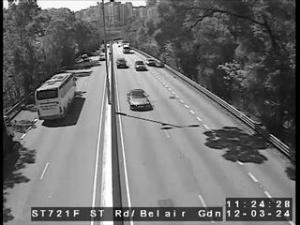bus: (35, 73, 77, 121)
truck: (124, 45, 130, 53)
vehicle: (128, 89, 152, 111), (116, 58, 126, 68), (135, 61, 145, 71), (84, 58, 92, 66), (146, 61, 156, 66), (99, 54, 105, 60), (131, 50, 135, 53)
